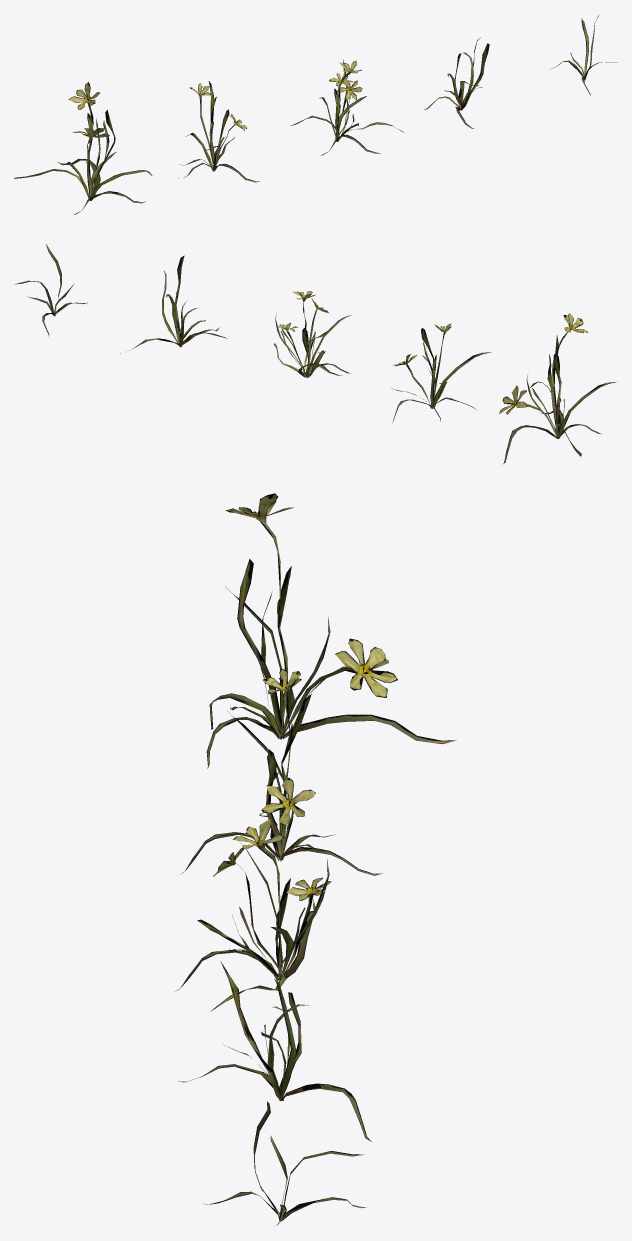
The model's file is flower_empodium.glb.
The picture shows the model from 3 angles, top to bottom: view 1: azimuth 30°, elevation 25°; view 2: azimuth 150°, elevation 25°; view 3: azimuth 270°, elevation 25°; orthographic projection. The views are drawn at different scales.
Parts seen in each view (by area): view 1: flower_empodium_a_LOD0; view 2: flower_empodium_a_LOD0; view 3: flower_empodium_a_LOD0.
Boxes of the visible parts, x1,y1,x2,y2 form: flower_empodium_a_LOD0: (14,15,617,214); flower_empodium_a_LOD0: (14,244,617,463); flower_empodium_a_LOD0: (174,493,456,1225).
Size of the model in its own units: 1.32 by 0.2684 by 0.2837.
Materials: 1 (1 with a texture image).
